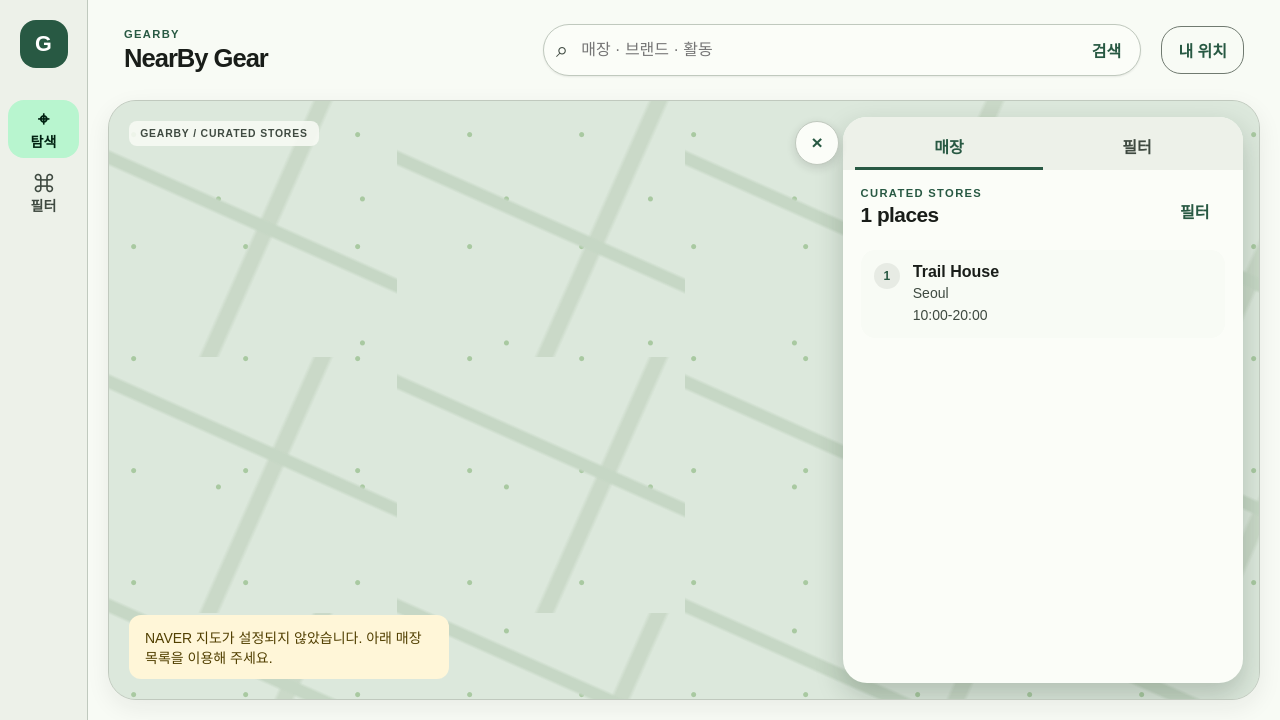
Test: Discovery › opens a compact report form from the selected store detail
Click the button "1 Trail House Seoul 10:00-20:00" at point(956, 271), box [861,250,1225,338]
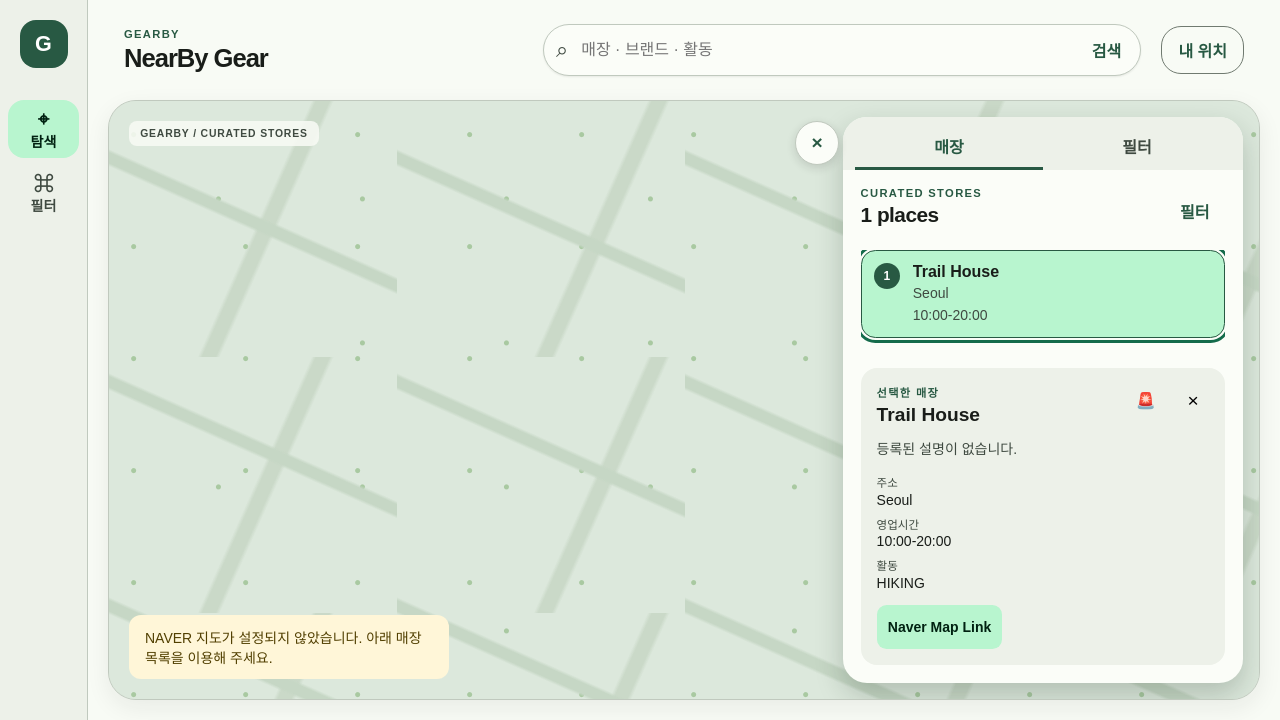
Expected: the dialog "매장 정보 신고" is not shown
Now the heading "Trail House" is shown, box [877,404,980,425]
Click the button named "매장 정보 신고" at point(1146, 401), box [1124,379,1168,423]
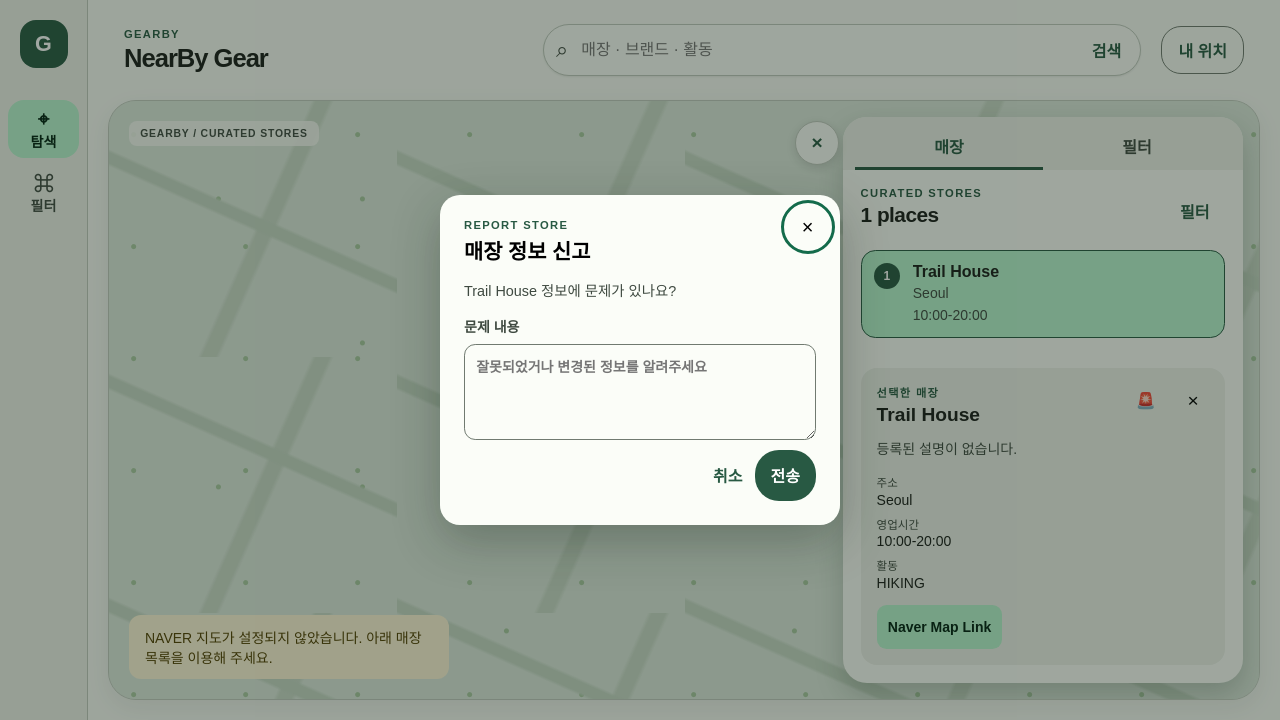
Now the dialog "매장 정보 신고" is shown, box [440,195,840,525]
Now the text box labelled "문제 내용" is shown, box [464,344,816,440]
Click the button "취소" at point(728, 476), box [713,454,743,498]
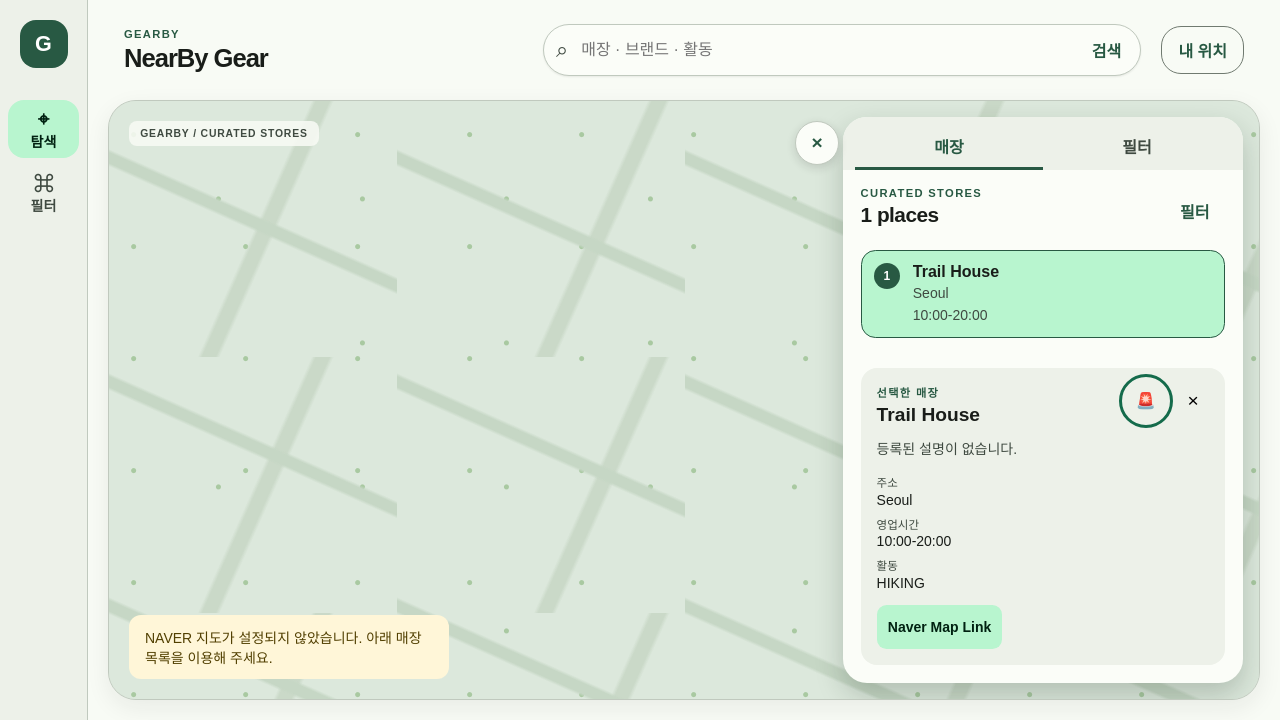
Now the heading "매장 정보 신고" is gone
